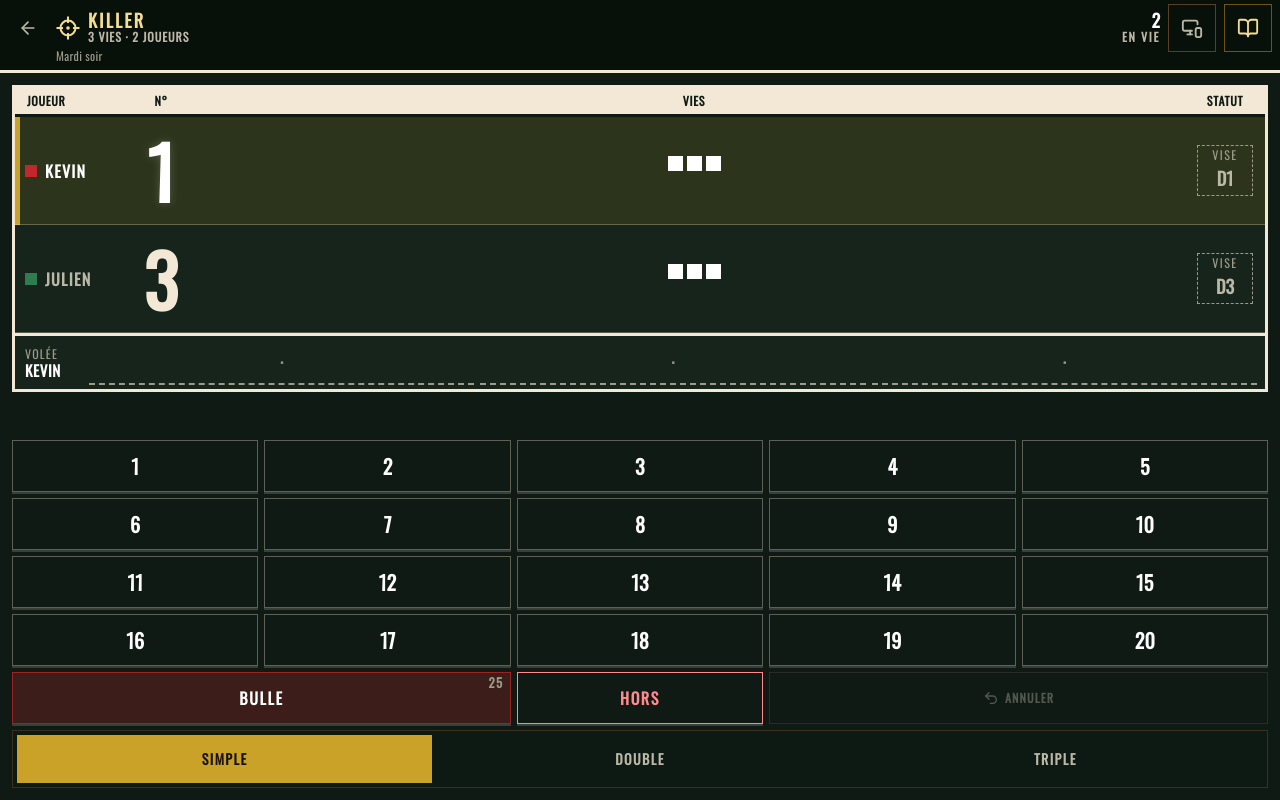
Le livre ouvert, sur le match › ouvre la feuille de règles de KILLER sans changer d’URL
What coordinates should you click on to do the following:
click the button named "Règles du Killer"
I would click on:
 (1248, 28)
Its box is top-left (1224, 4), bottom-right (1272, 52).
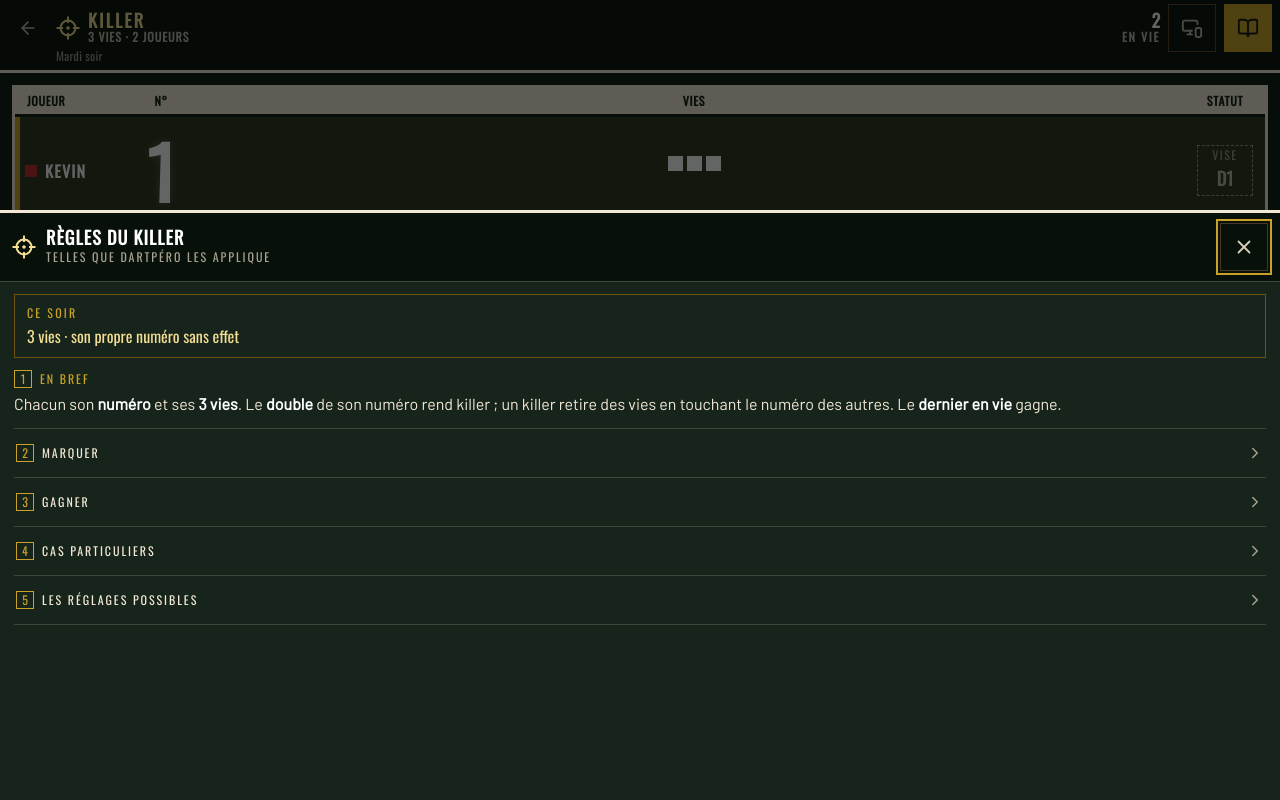
Expected: the dialog "Règles du Killer" is shown
Expected: the button named "Règles du Killer" is expanded, top-left (1224, 4), bottom-right (1272, 52)
